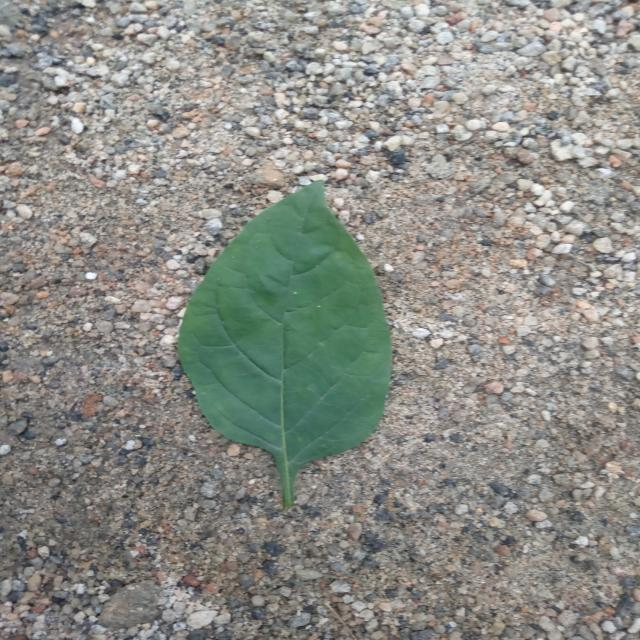ganike: (178, 181, 392, 508)
